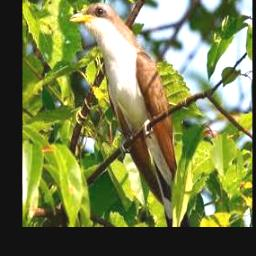Cuckoo: (71, 0, 184, 227)
